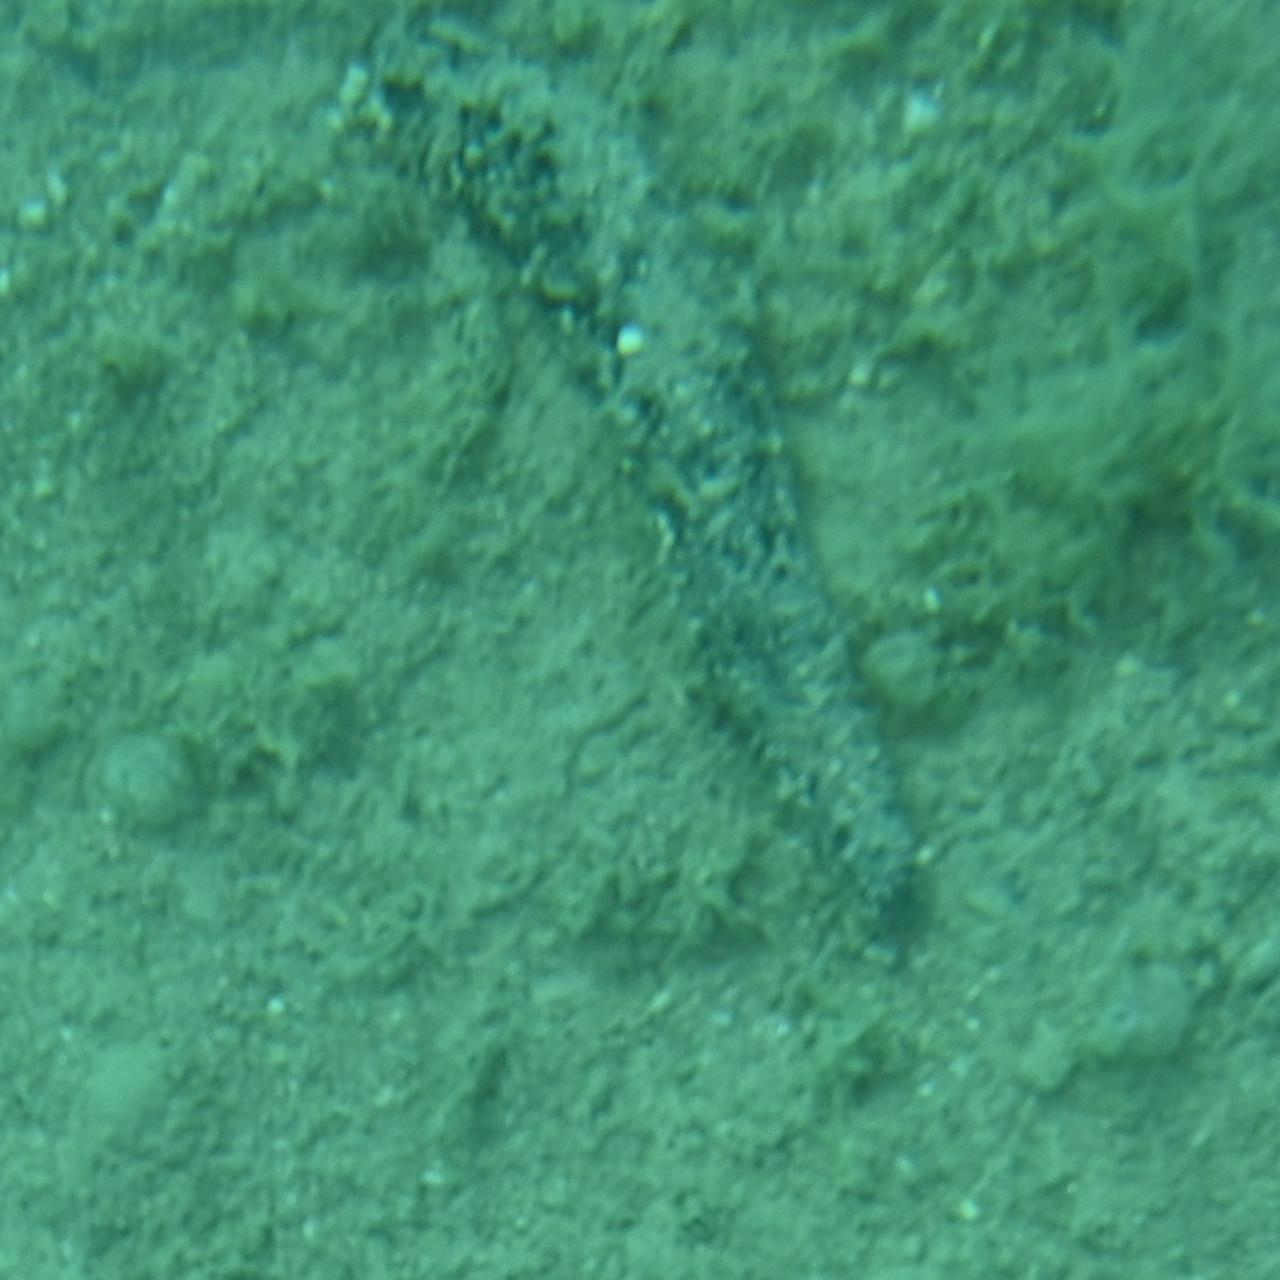Holothuria tubulosa: (354, 0, 926, 948)
